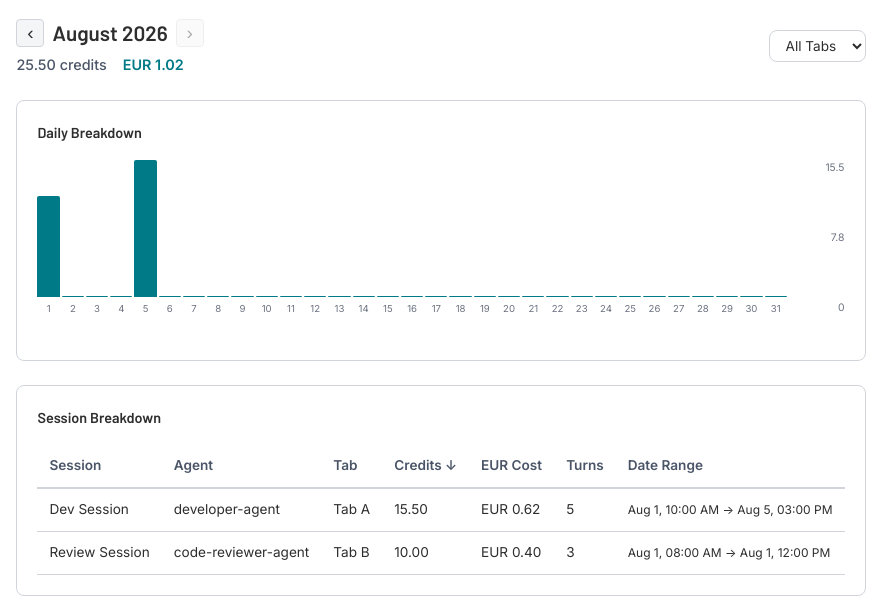
Test: UsagePanel › persists the tab filter across month navigation
Check: the heading "August 2026" is shown, box [52,16,168,49]
# Filter to Tab A.
Select "Tab A" in the dropdown named "Filter by tab" at (817, 46), box [768,30,866,62]
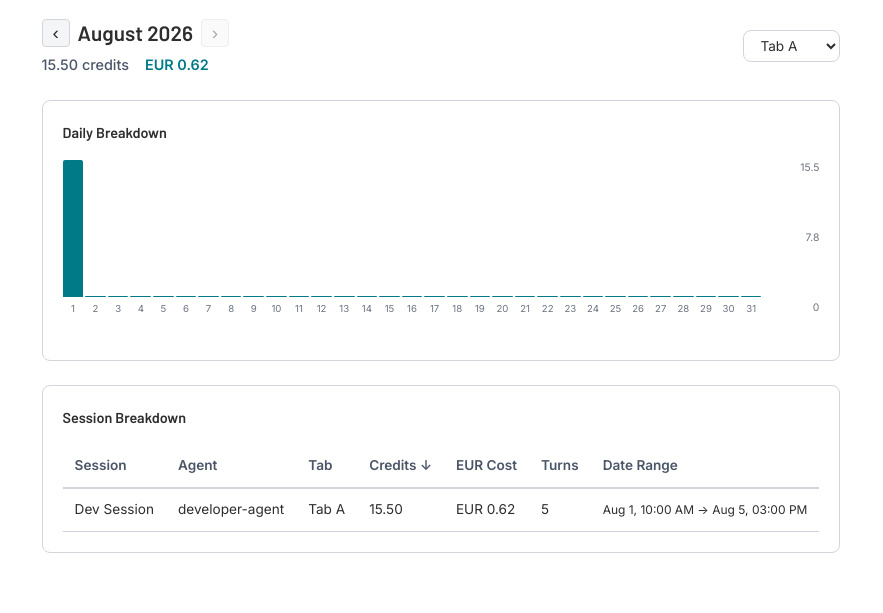
Check: the text "15.50 credits" is shown, box [42,53,129,76]
# Navigate to July — filter should still be Tab A.
Click the button named "Previous month" at (56, 33), box [42,19,70,47]
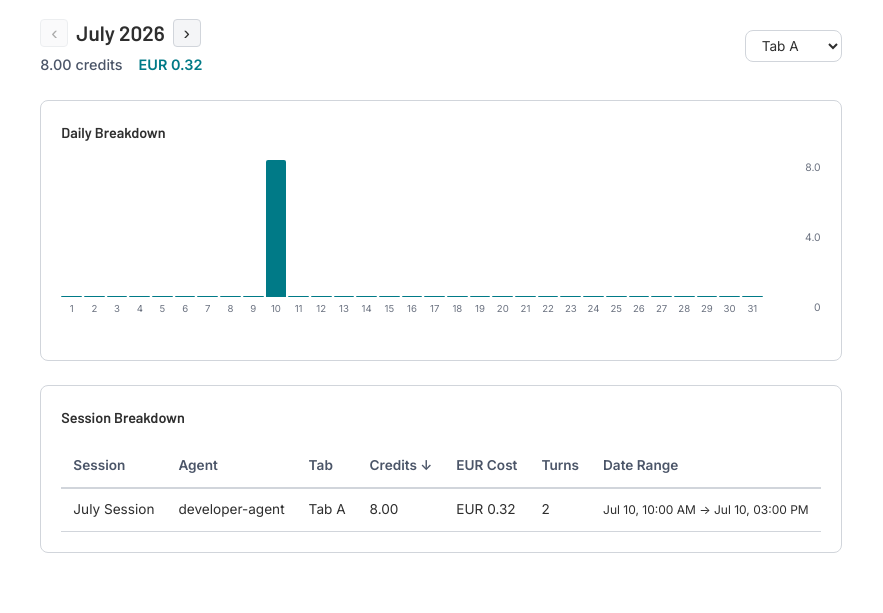
Check: the heading "July 2026" is shown, box [76,16,165,49]
Check: the text "8.00 credits" is shown, box [40,53,123,76]
Check: the text "July Session" is shown, box [61,488,166,532]
